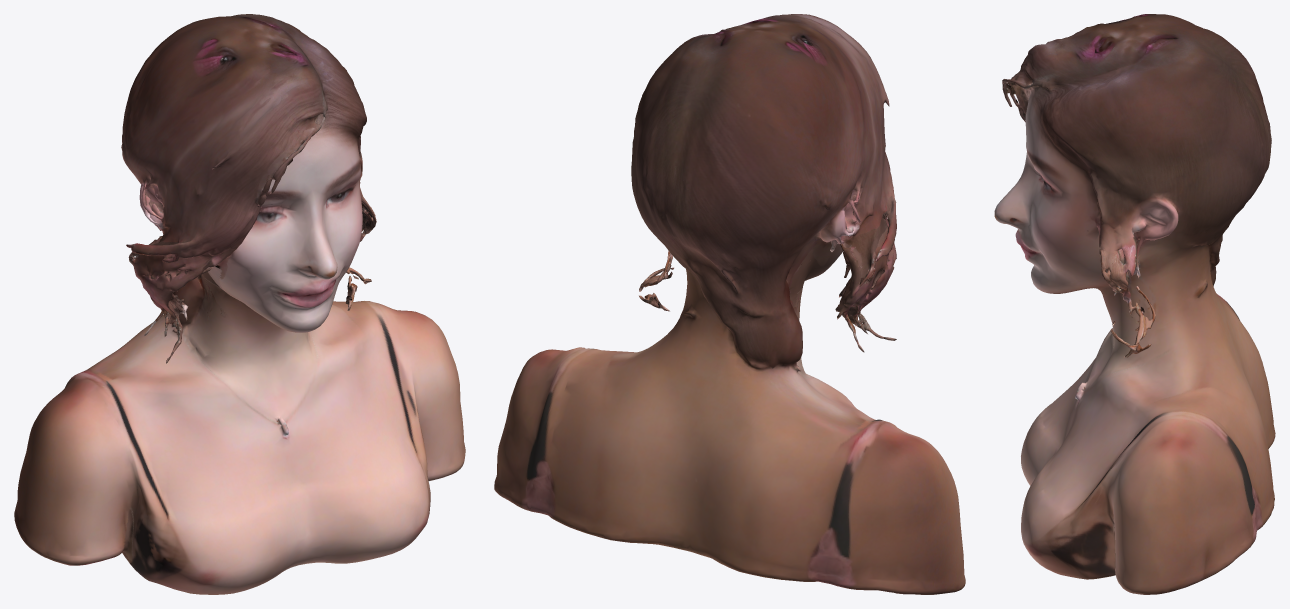
3 views of the same model, side by side, from view 1: azimuth 30°, elevation 25°; view 2: azimuth 150°, elevation 25°; view 3: azimuth 270°, elevation 25° (orthographic). The views are drawn at different scales.
Bounding box in the file's own units: 1.76 × 1.99 × 1.02.
1 material, 1 textured.
